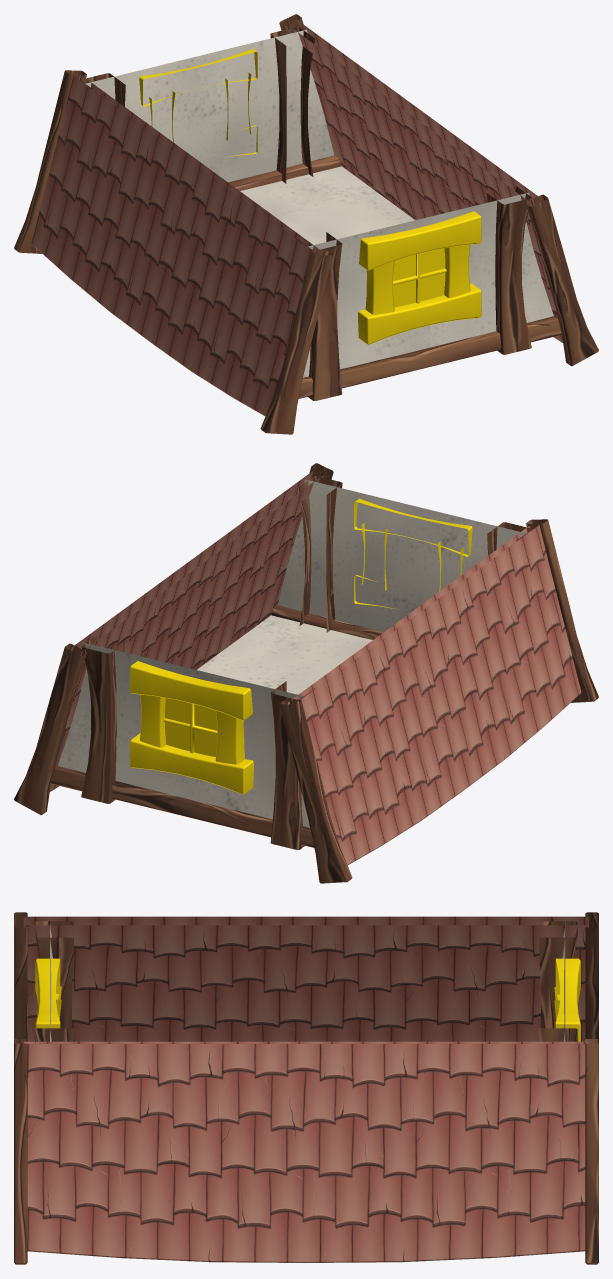
Rendered from house_top_floor4.FBX.
3 views of the same model, one above another, from view 1: azimuth 30°, elevation 25°; view 2: azimuth 150°, elevation 25°; view 3: azimuth 270°, elevation 25° (orthographic). The views are drawn at different scales.
Visible parts, largest first — view 1: top_floor004; view 2: top_floor004; view 3: top_floor004.
Boxes of the visible parts, bbox=[...] form: top_floor004: bbox=[14, 14, 598, 434]; top_floor004: bbox=[14, 463, 598, 883]; top_floor004: bbox=[14, 912, 598, 1264].
Bounding box in the file's own units: 475 × 237 × 622.
